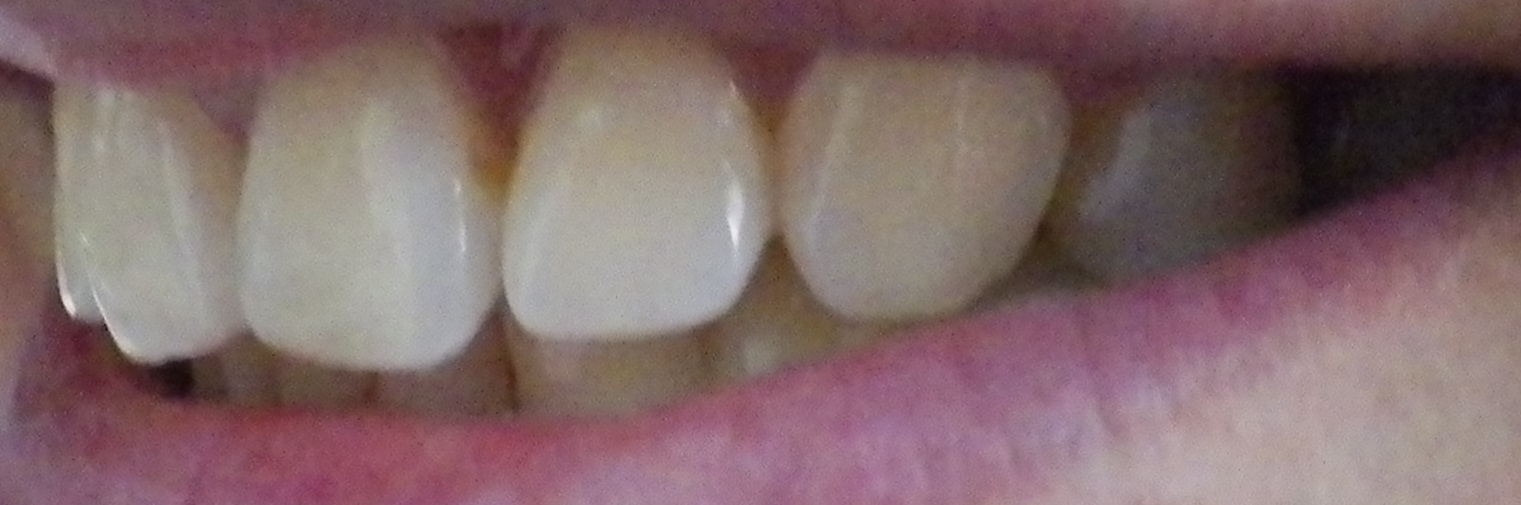boca: (38, 40, 1354, 409)
